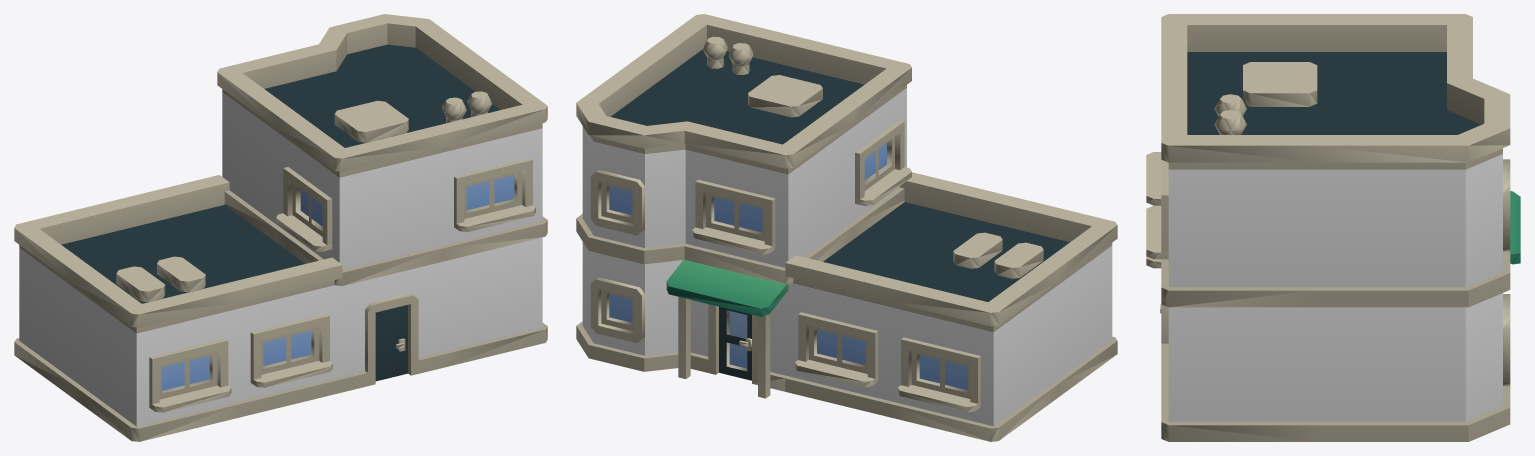
Rendered from building-e.glb.
The picture shows the model from 3 angles, left to right: view 1: azimuth 30°, elevation 25°; view 2: azimuth 150°, elevation 25°; view 3: azimuth 270°, elevation 25°; orthographic projection. The views are drawn at different scales.
Parts seen in each view (by area): view 1: building-e; view 2: building-e; view 3: building-e.
Boxes of the visible parts, x1,y1,x2,y2 form: building-e: [14, 14, 547, 441]; building-e: [576, 14, 1117, 441]; building-e: [1146, 14, 1520, 441].
Bounding box in the file's own units: 16.4 × 8.93 × 10.08.
